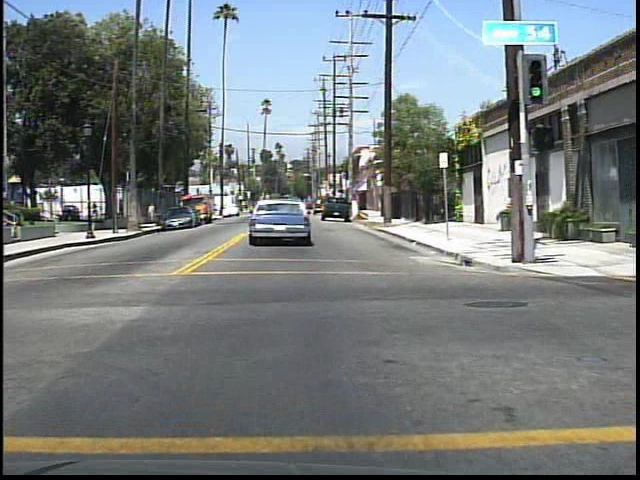person: (146, 197, 158, 225), (114, 195, 127, 219), (89, 198, 101, 220)
